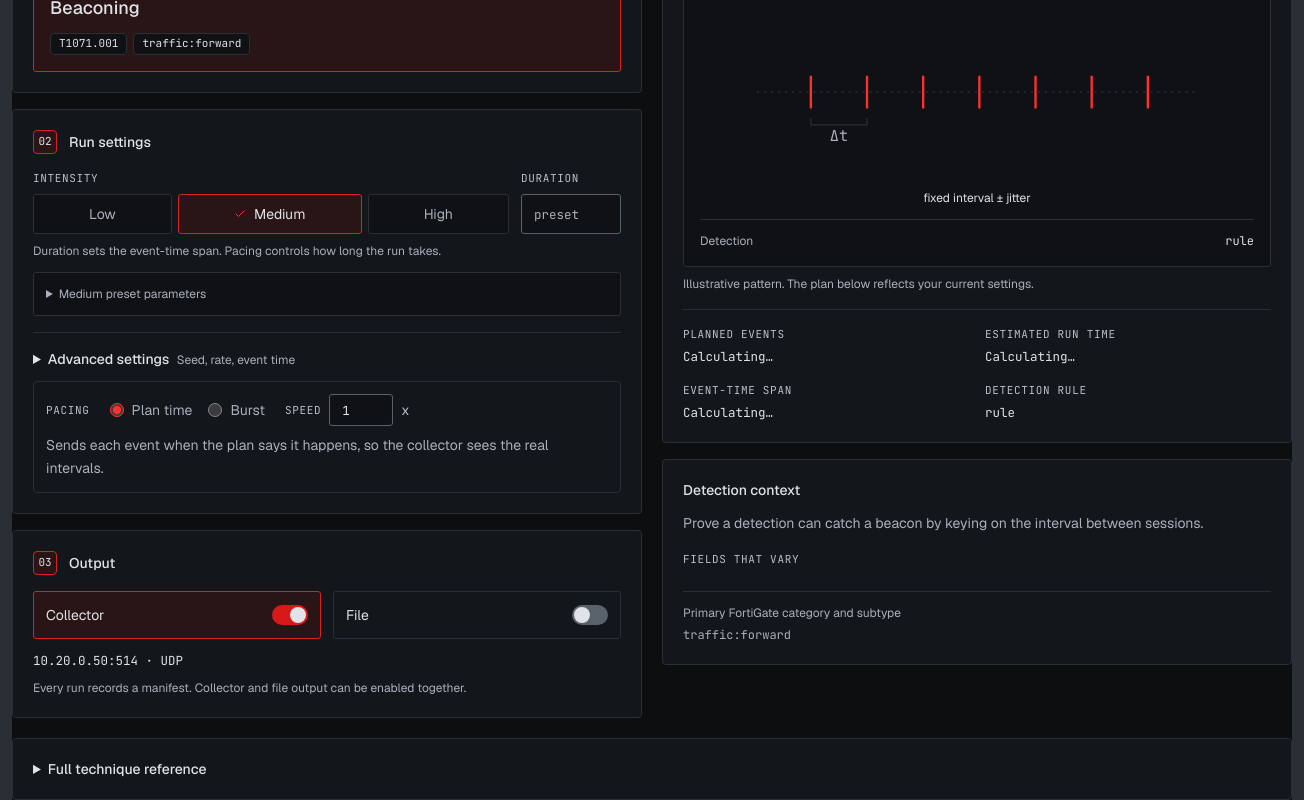
Test case: RunPanel destination › says it will not send once the operator turns the collector off
The width and height of the screenshot is (1304, 800).
(page scrolled)
Click the 1st switch named "Collector". click: (290, 615)
box: [272,605,308,625]
(page scrolled)
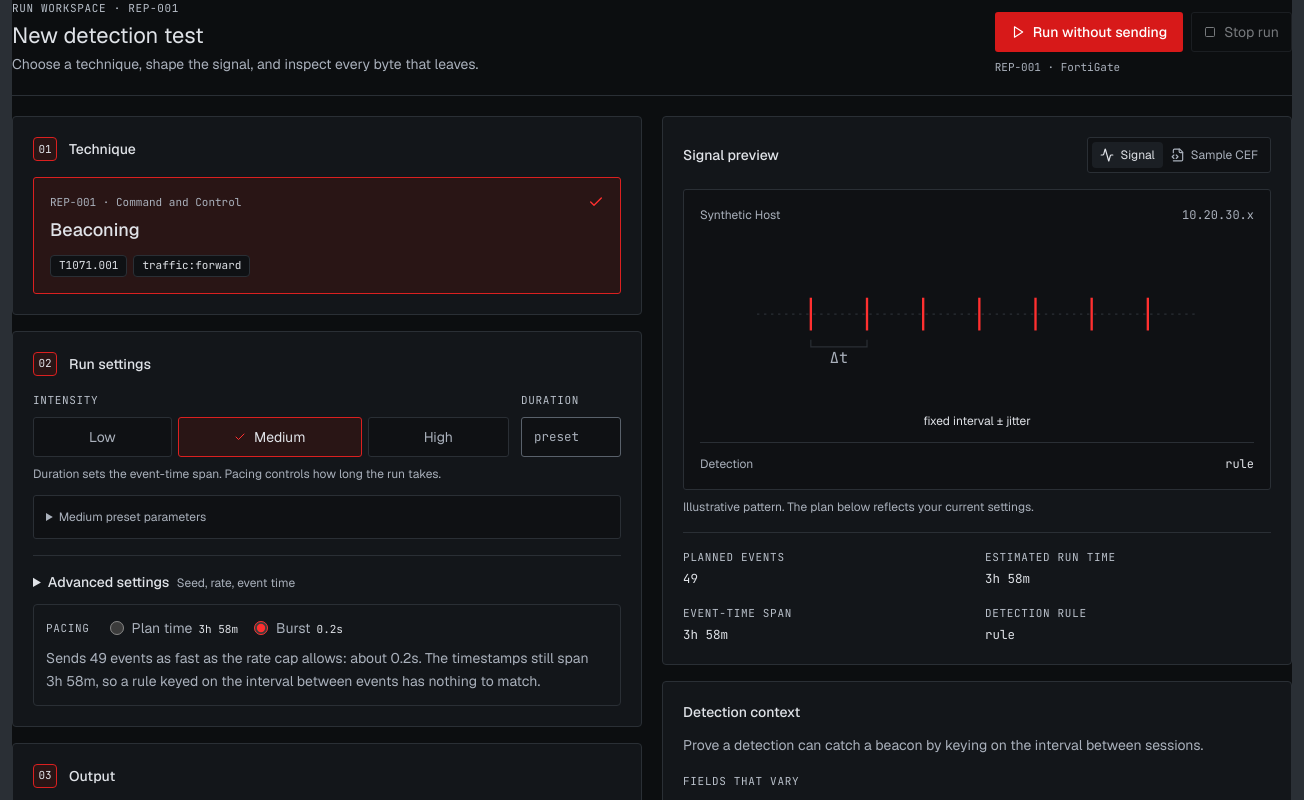
Expected: the button "Run without sending" is shown, [995,12,1183,52]
